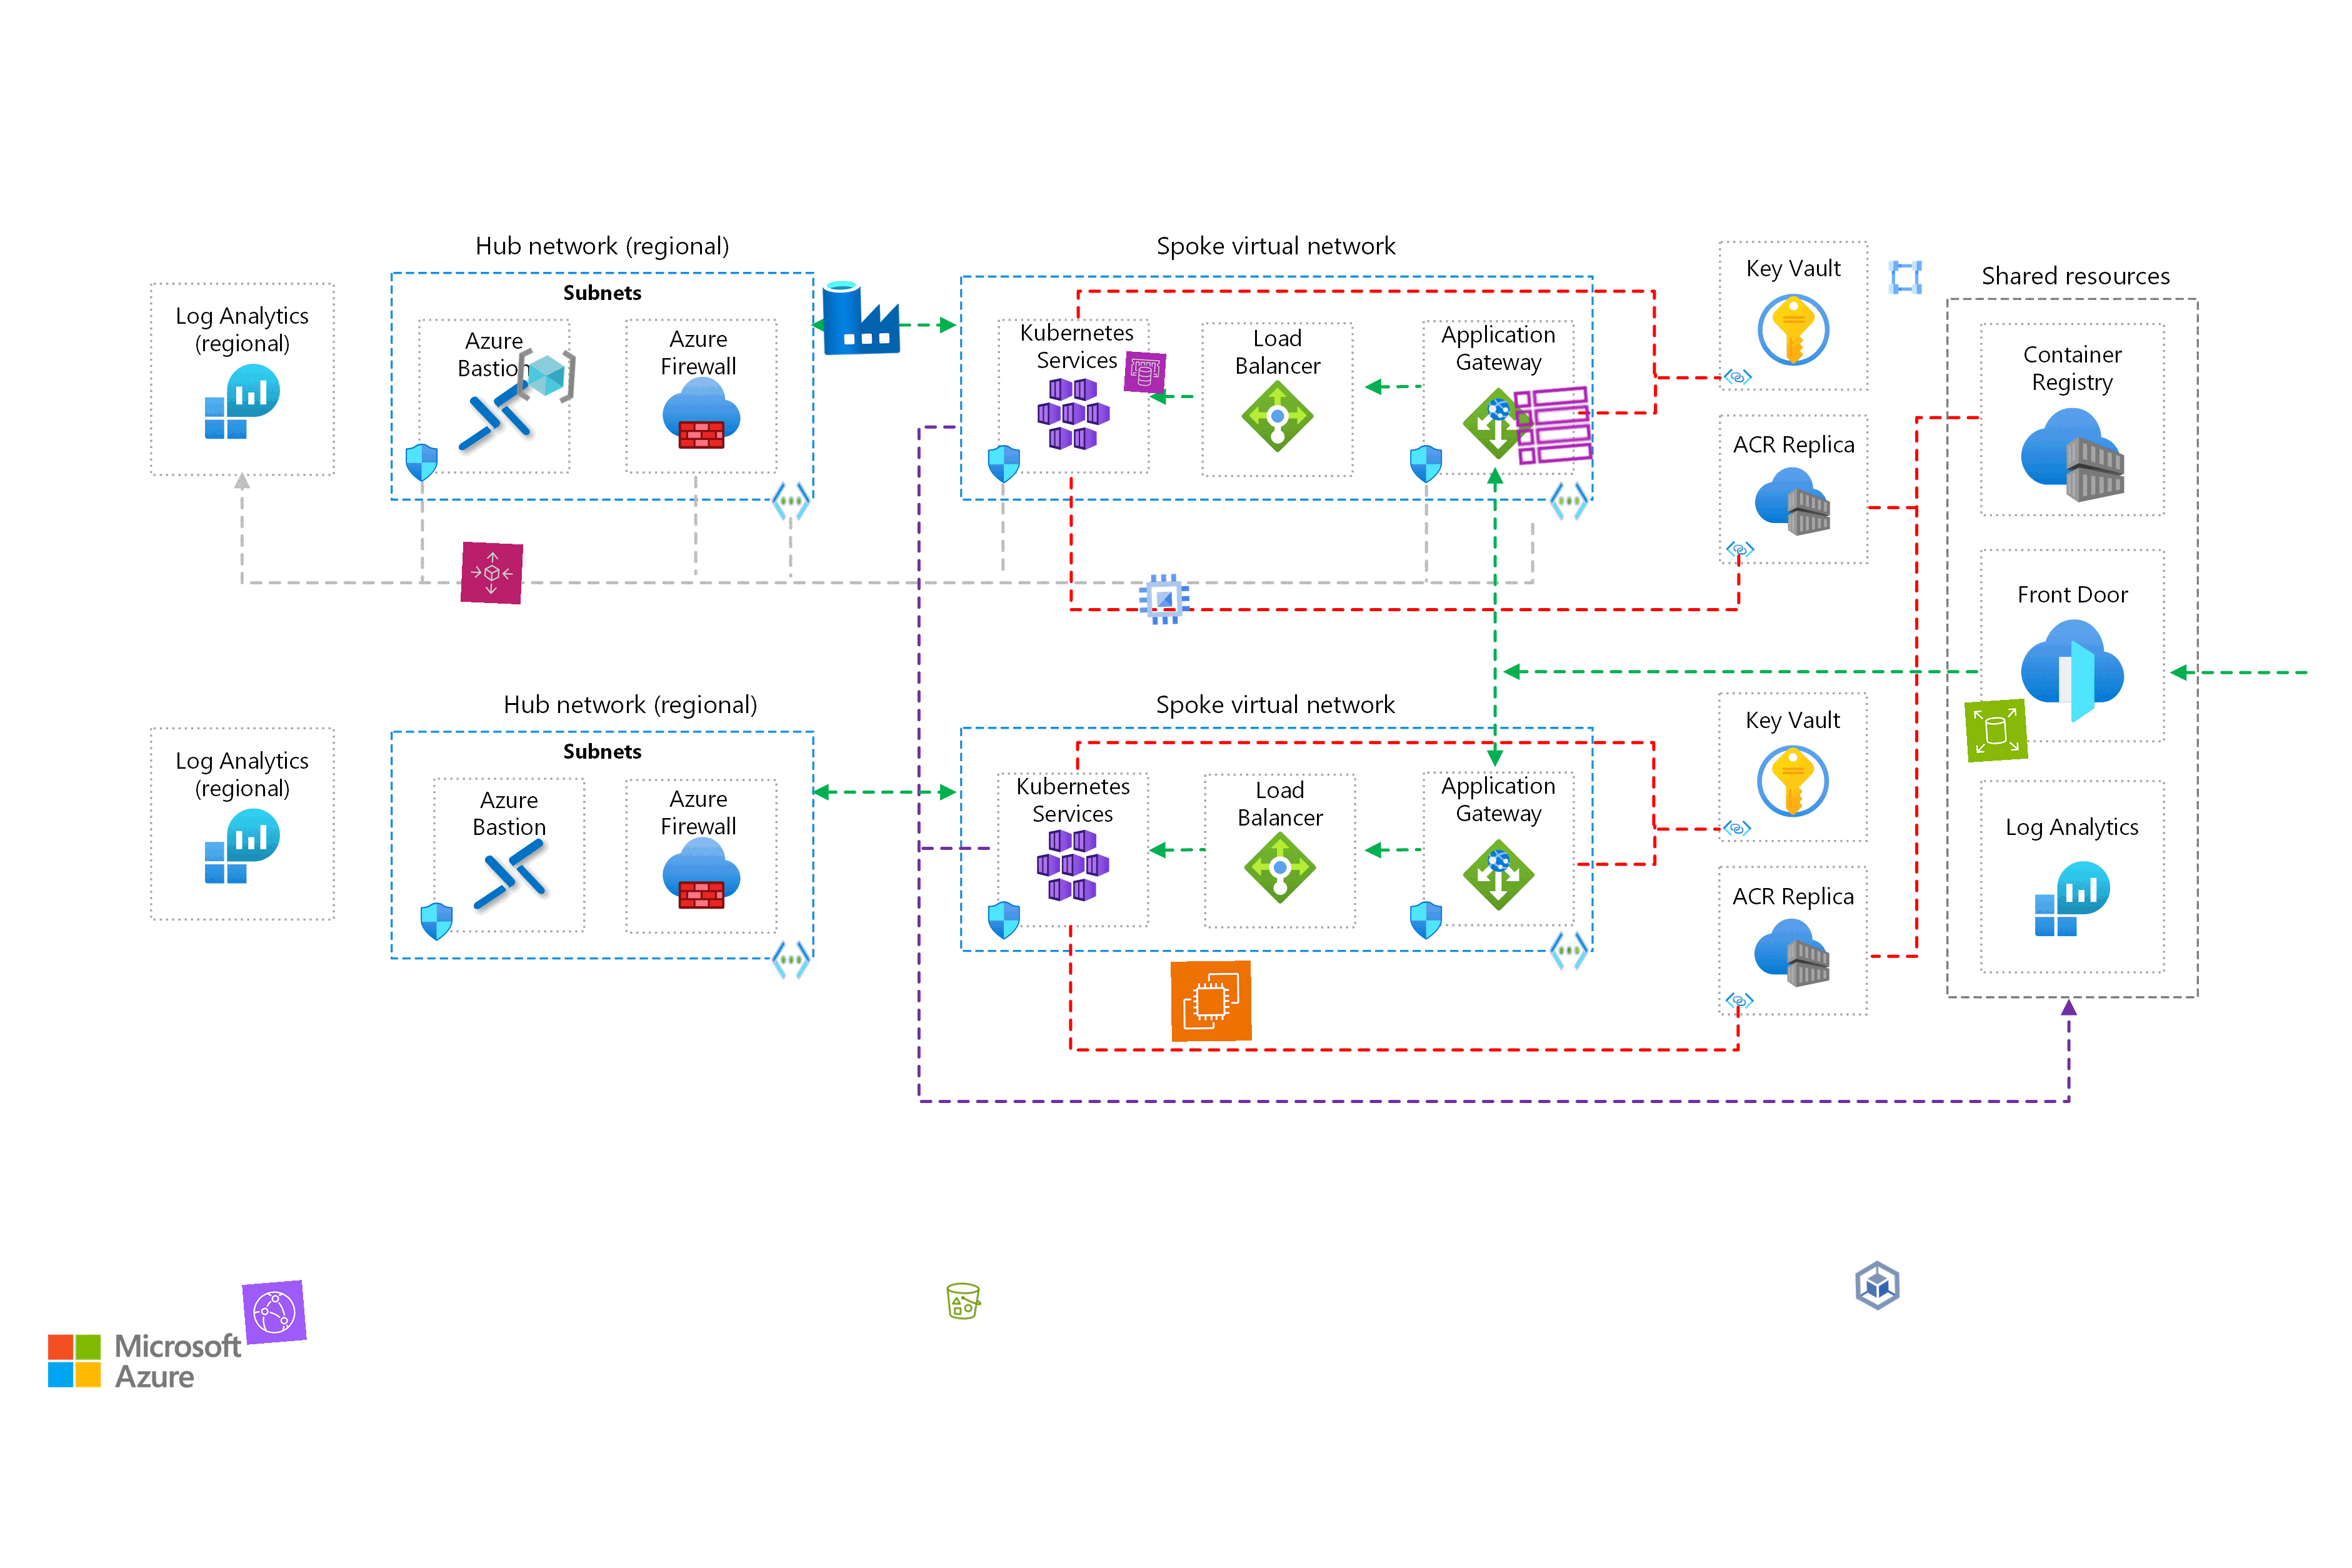aws_amazon_cloudfront: (242, 1279, 306, 1346)
aws_amazon_ec2: (1171, 961, 1251, 1041)
aws_amazon_elastic_block_store: (1963, 698, 2028, 763)
aws_amazon_elasticache: (1123, 350, 1167, 394)
aws_auto_scaling: (460, 541, 523, 605)
aws_dynamodb_table: (1510, 381, 1598, 469)
aws_simple_storage_service_bucket_with_objects: (943, 1281, 985, 1321)
azure_data_factories: (821, 275, 903, 357)
azure_resource_groups: (514, 343, 577, 408)
gcp_compute_engine: (1134, 569, 1195, 630)
gcp_google_kubernetes_engine: (1846, 1255, 1909, 1316)
gcp_virtual_private_cloud: (1885, 257, 1925, 297)
